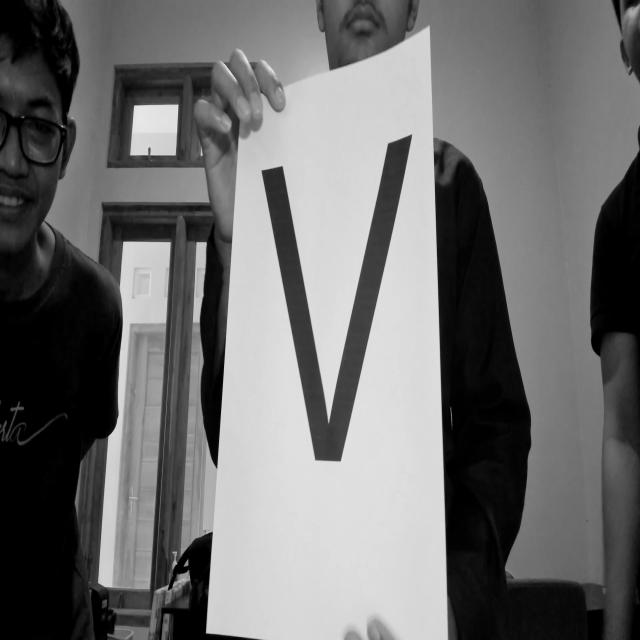v: (252, 134, 432, 476)
